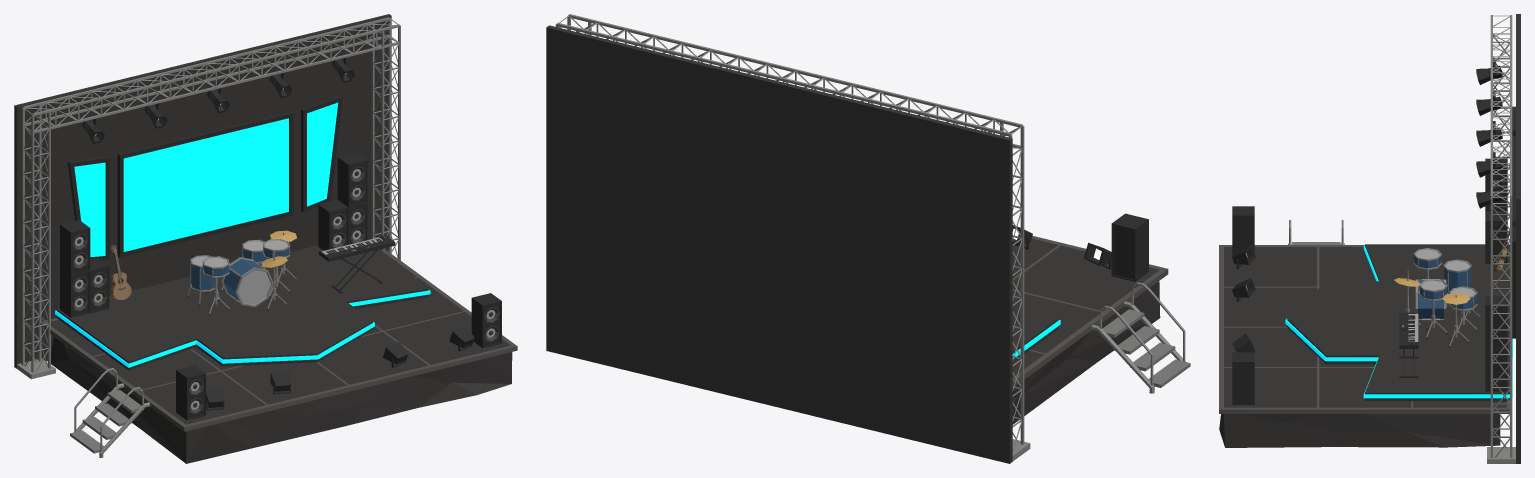
File: SM_Props_Concert_Stage.fbx
3 views of the same model, side by side, from view 1: azimuth 30°, elevation 25°; view 2: azimuth 150°, elevation 25°; view 3: azimuth 270°, elevation 25° (orthographic). The views are drawn at different scales.
Parts seen in each view (by area): view 1: SM_Props_Concert_Stage, SM_Props_Concert_Stage_Instruments; view 2: SM_Props_Concert_Stage; view 3: SM_Props_Concert_Stage, SM_Props_Concert_Stage_Instruments.
Boxes of the visible parts, x1,y1,x2,y2 form: SM_Props_Concert_Stage: (14,14,517,463); SM_Props_Concert_Stage_Instruments: (110,230,395,315); SM_Props_Concert_Stage: (546,14,1190,463); SM_Props_Concert_Stage: (1219,14,1520,463); SM_Props_Concert_Stage_Instruments: (1394,232,1509,377).
Size of the model in its own units: 980 by 602 by 620.
